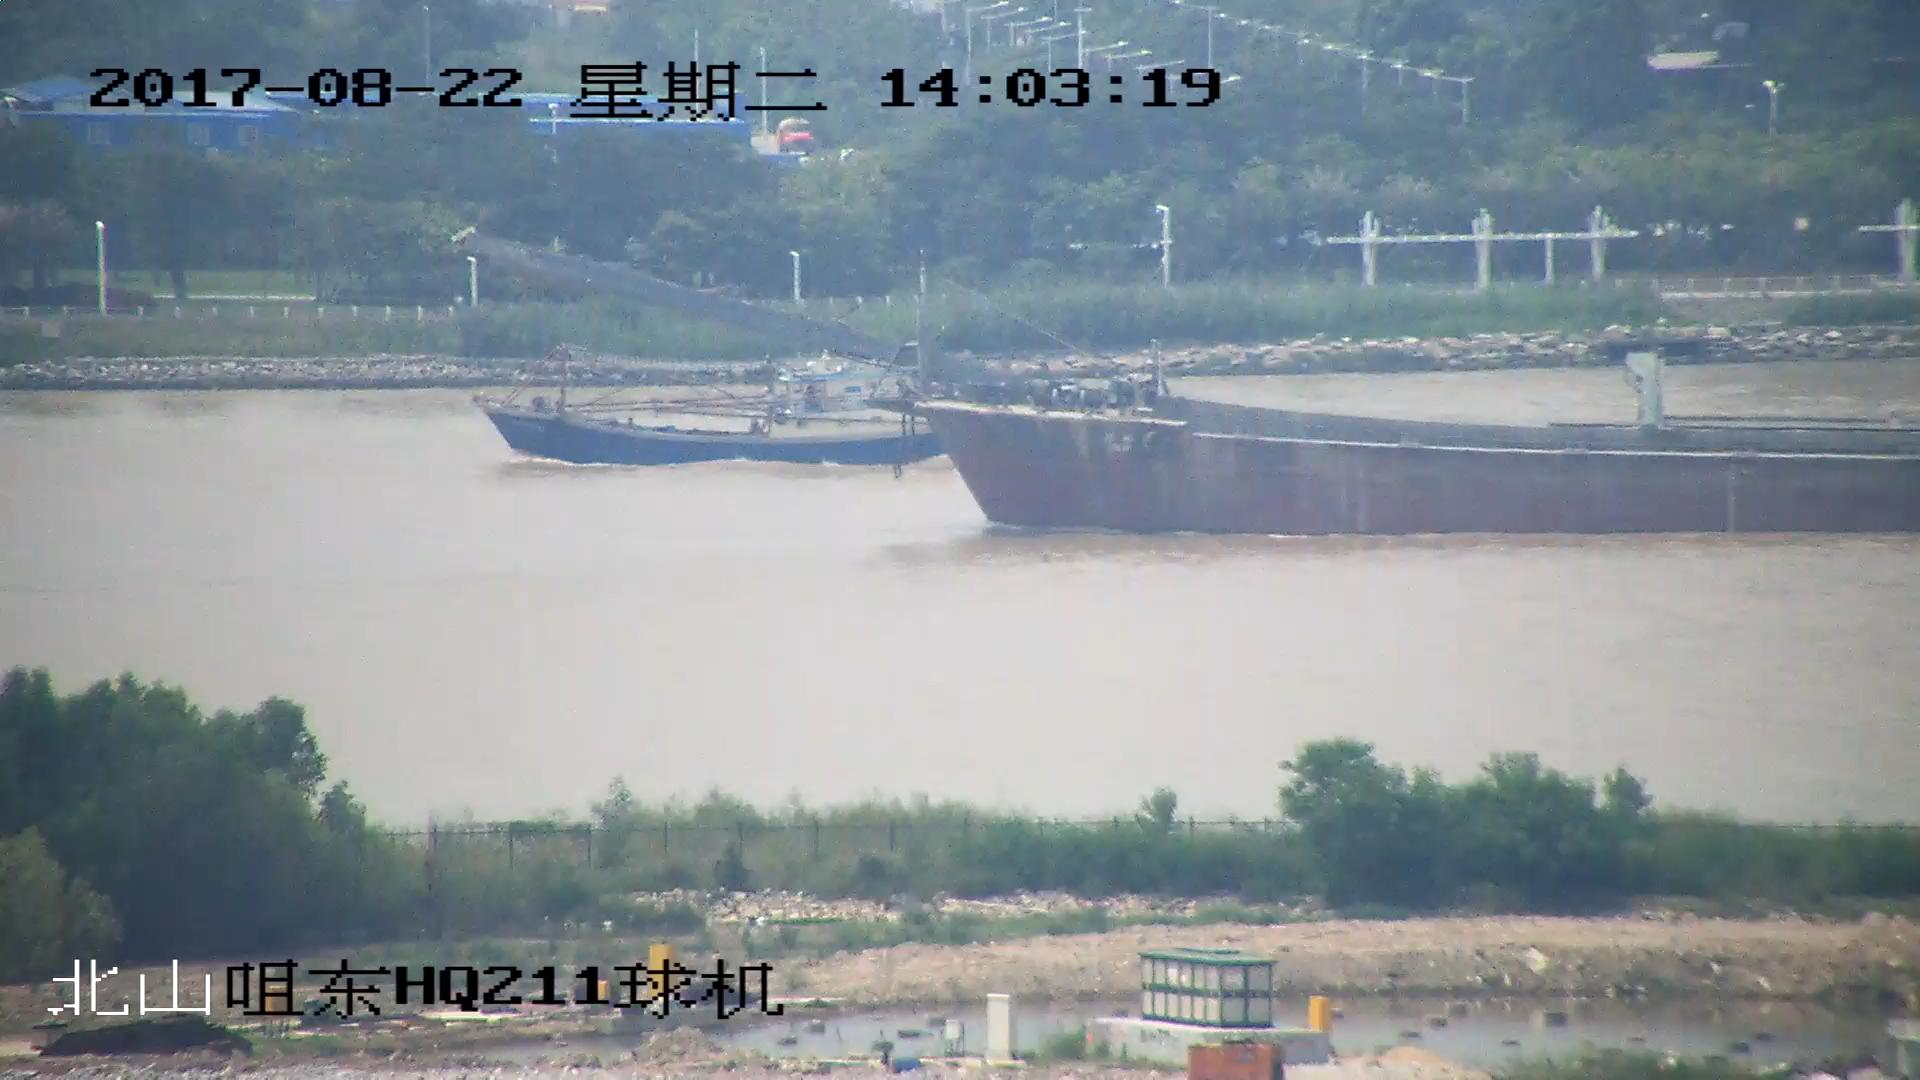bulk cargo carrier: (463, 233, 1920, 541)
fishing boat: (480, 346, 948, 463)
